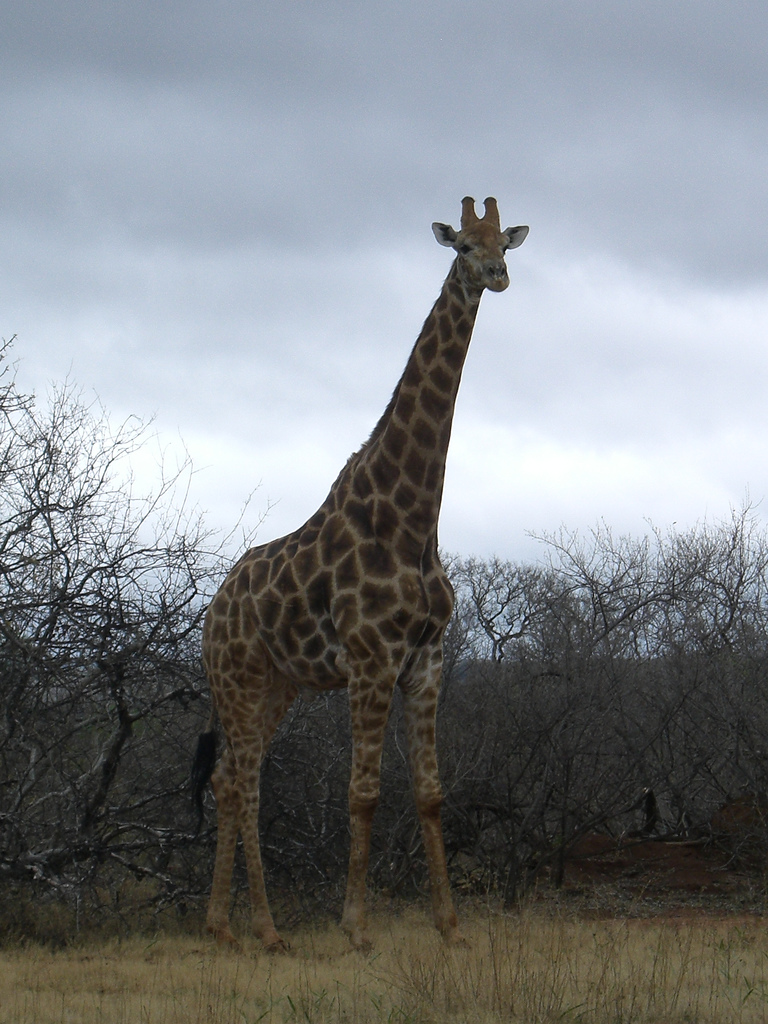giraffe: (181, 191, 561, 968)
